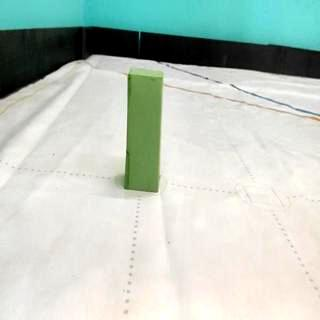greenbox: (122, 64, 164, 193)
